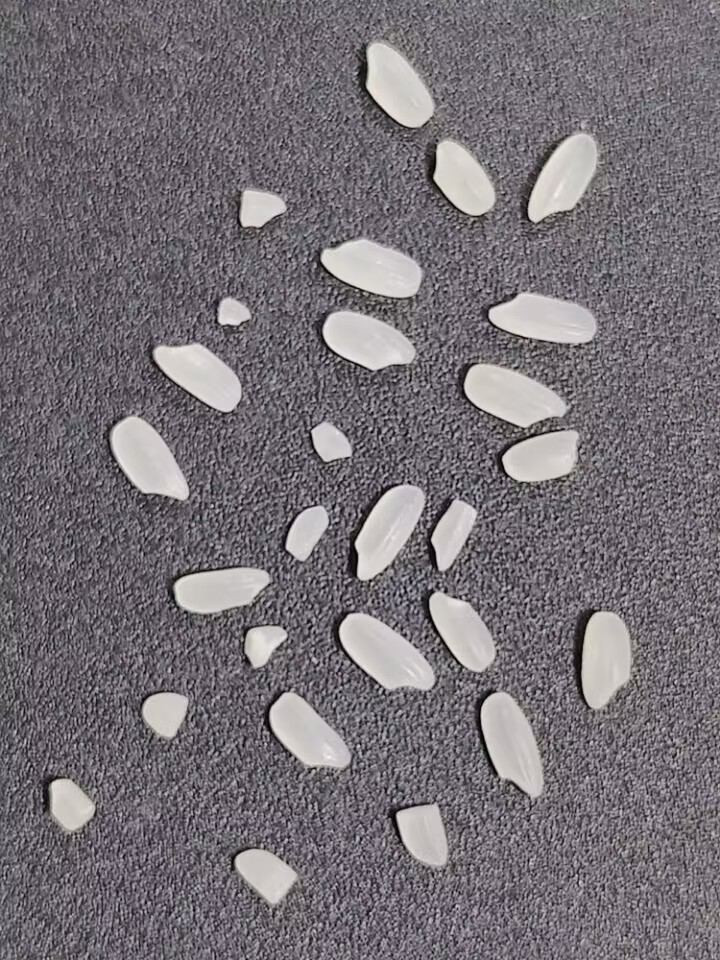broken: (502, 428, 579, 483), (392, 801, 450, 874), (233, 848, 300, 908), (430, 498, 477, 572), (278, 502, 330, 564), (45, 777, 98, 835), (305, 415, 355, 470), (139, 690, 192, 739), (234, 187, 288, 231), (243, 623, 291, 669), (213, 295, 251, 328)
rice: (339, 605, 444, 701), (462, 358, 569, 429), (266, 690, 355, 773), (479, 691, 546, 801), (107, 416, 191, 503), (353, 483, 426, 582), (425, 590, 503, 680), (361, 38, 437, 130), (149, 340, 244, 413), (316, 237, 425, 299), (527, 132, 598, 224), (486, 289, 600, 344), (321, 310, 417, 372), (580, 609, 635, 712), (430, 139, 499, 218), (170, 567, 273, 614)
